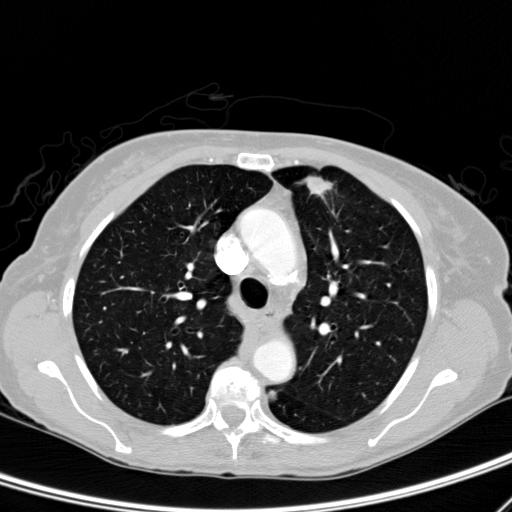nodule: (305, 172, 332, 199)
